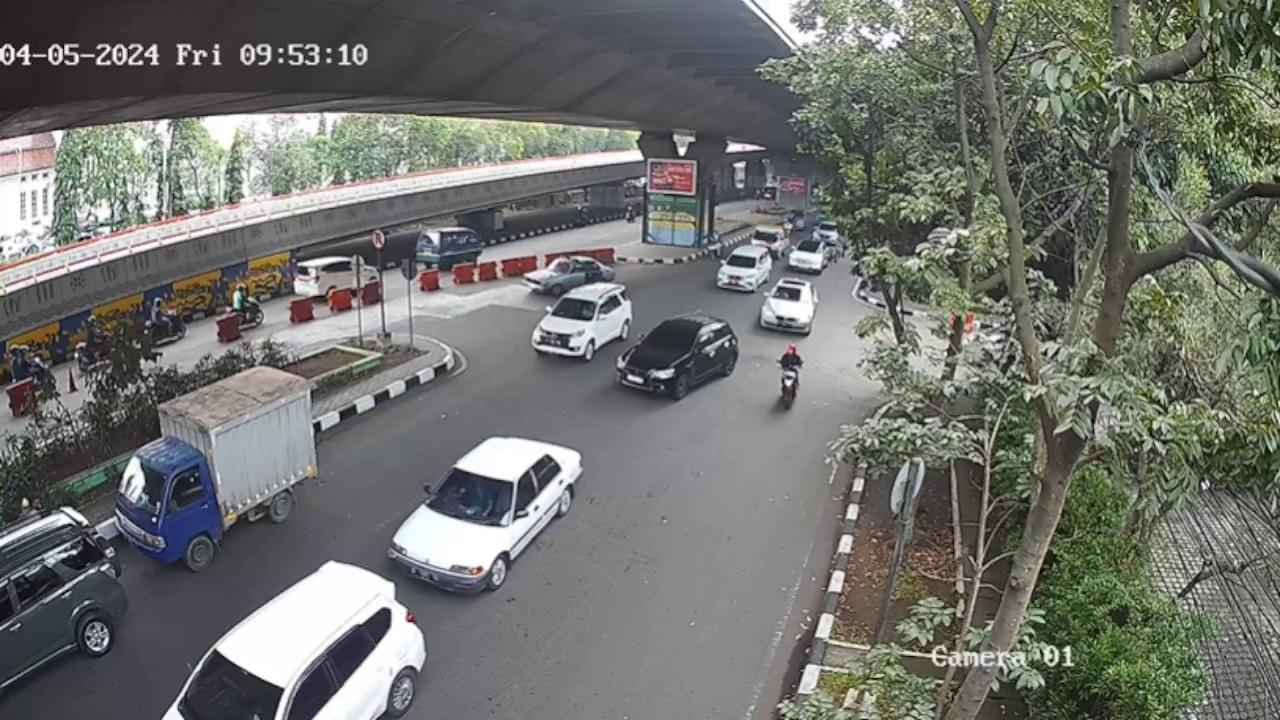tidak-pakai: (460, 478, 494, 518)
windshield: (175, 650, 291, 720), (430, 466, 516, 529)
